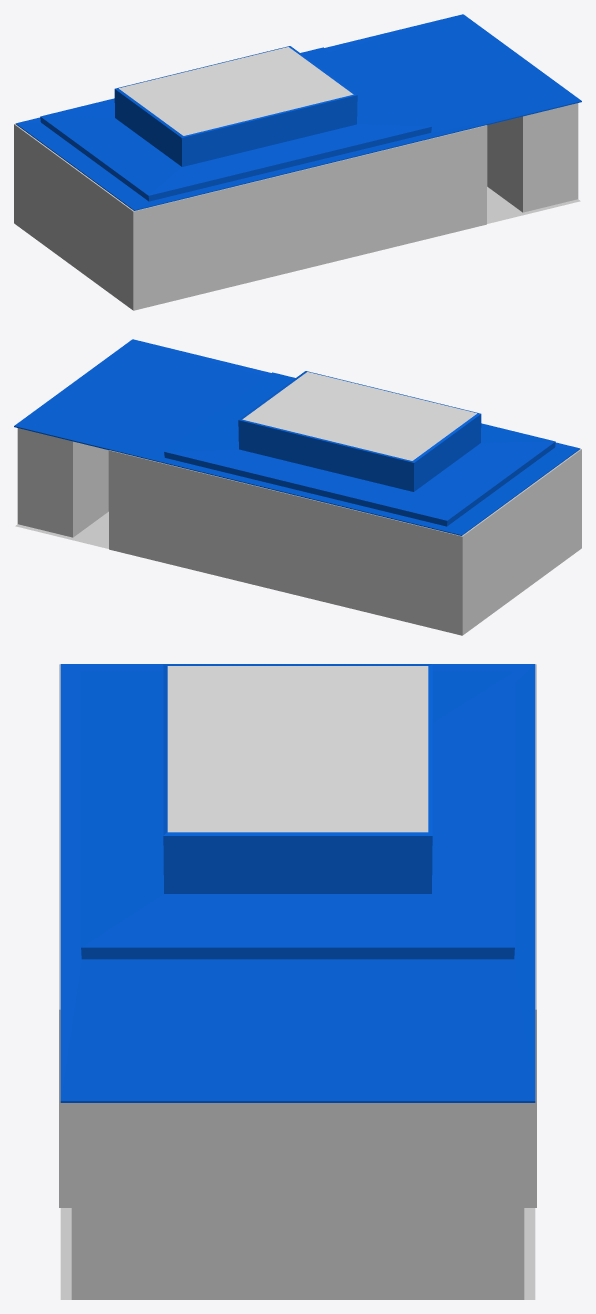
File: SM_museum.fbx
The picture shows the model from 3 angles, top to bottom: view 1: azimuth 30°, elevation 25°; view 2: azimuth 150°, elevation 25°; view 3: azimuth 270°, elevation 25°; orthographic projection. The views are drawn at different scales.
Parts seen in each view (by area): view 1: wall, roof, ground; view 2: wall, roof, ground; view 3: roof, wall, ground.
Part boxes in pixels (box(x1,y1,x2,y2)): wall: box(14, 103, 578, 310); roof: box(15, 14, 581, 210); ground: box(487, 186, 580, 223); wall: box(17, 428, 581, 635); roof: box(14, 339, 580, 535); ground: box(15, 511, 108, 548); roof: box(60, 664, 535, 1102); wall: box(59, 664, 536, 1299); ground: box(60, 1208, 535, 1299).
Size of the model in its own units: 2160 by 625 by 996.
